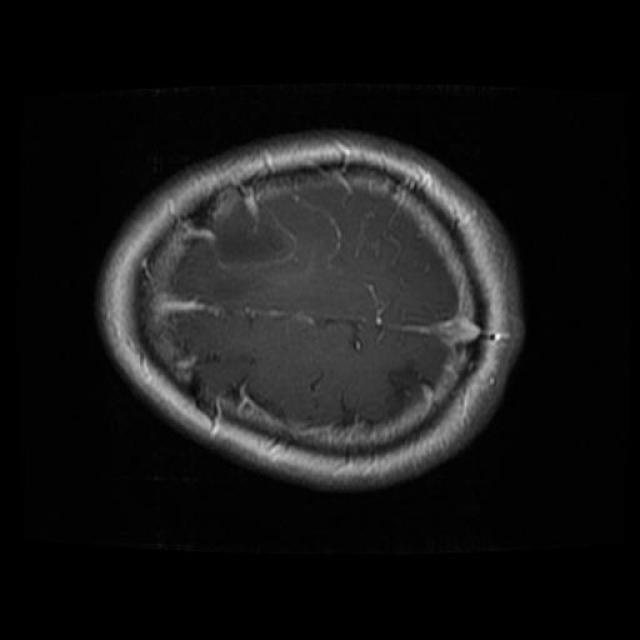Glioma: (191, 185, 293, 265)
